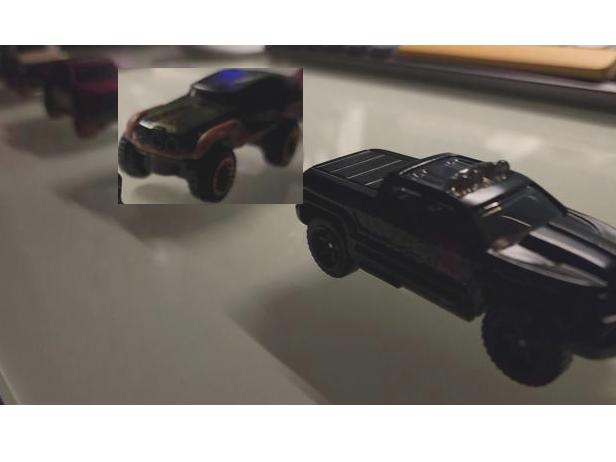toy-car: (296, 146, 616, 389), (117, 69, 302, 205)
